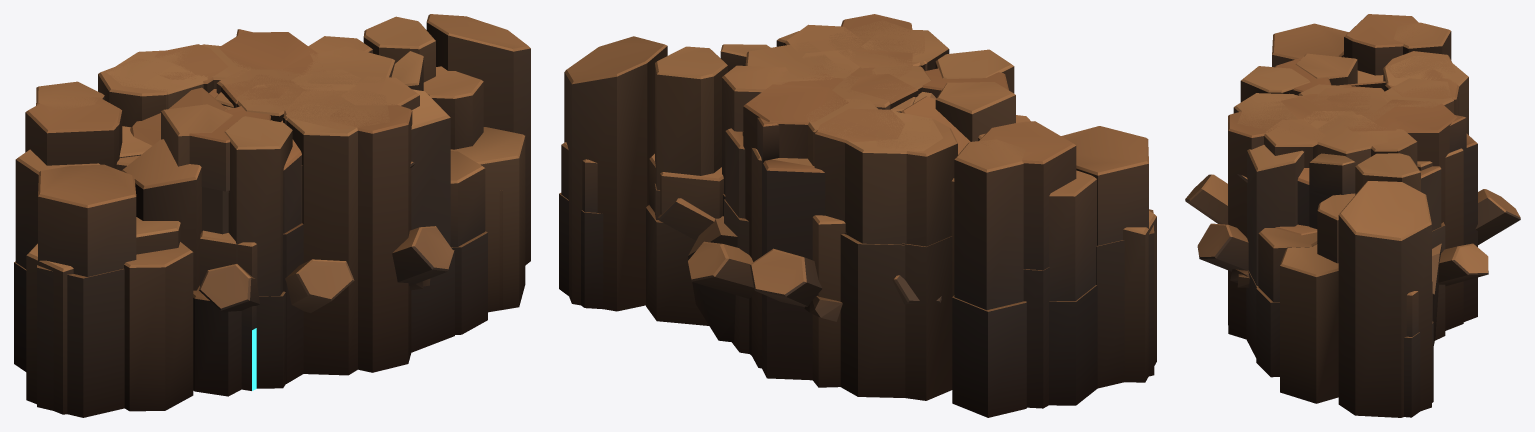
File: khepri-kit.glb
The picture shows the model from 3 angles, left to right: view 1: azimuth 30°, elevation 25°; view 2: azimuth 150°, elevation 25°; view 3: azimuth 270°, elevation 25°; orthographic projection. The views are drawn at different scales.
Visible parts, largest first — view 1: basalt_clump_3, basalt_wall_2, basalt_wall_0, basalt_wall_1, basalt_clump_4, basalt_clump_0, basalt_clump_2, basalt_rosette_0, basalt_clump_1, basalt_column_0, basalt_clump_5; view 2: basalt_wall_0, basalt_wall_1, basalt_wall_2, basalt_clump_2, basalt_clump_4, basalt_clump_3, basalt_clump_0, basalt_rosette_0, boulder_1, basalt_clump_1, basalt_clump_5, basalt_column_0; view 3: basalt_wall_0, basalt_clump_3, basalt_wall_1, basalt_clump_4, basalt_clump_2, basalt_wall_2, basalt_rosette_0, basalt_clump_0, basalt_clump_1, basalt_column_0, basalt_clump_5, boulder_1.
Boxes of the visible parts, bbox=[...] form: basalt_clump_3: bbox=[161, 69, 454, 388]; basalt_wall_2: bbox=[25, 97, 502, 417]; basalt_wall_0: bbox=[14, 14, 530, 414]; basalt_wall_1: bbox=[36, 58, 487, 411]; basalt_clump_4: bbox=[189, 29, 412, 372]; basalt_clump_0: bbox=[130, 32, 314, 383]; basalt_clump_2: bbox=[106, 46, 395, 129]; basalt_rosette_0: bbox=[199, 161, 454, 312]; basalt_clump_1: bbox=[200, 51, 423, 390]; basalt_column_0: bbox=[216, 66, 313, 104]; basalt_clump_5: bbox=[166, 44, 302, 222]; basalt_wall_0: bbox=[564, 36, 1156, 405]; basalt_wall_1: bbox=[724, 119, 1026, 417]; basalt_wall_2: bbox=[559, 115, 1154, 408]; basalt_clump_2: bbox=[742, 20, 942, 397]; basalt_clump_4: bbox=[757, 14, 1008, 380]; basalt_clump_3: bbox=[776, 29, 1015, 387]; basalt_clump_0: bbox=[743, 74, 970, 355]; basalt_rosette_0: bbox=[658, 198, 941, 321]; boulder_1: bbox=[688, 216, 737, 342]; basalt_clump_1: bbox=[720, 24, 863, 71]; basalt_clump_5: bbox=[806, 99, 889, 166]; basalt_column_0: bbox=[829, 66, 902, 109]; basalt_wall_0: bbox=[1280, 56, 1431, 417]; basalt_clump_3: bbox=[1233, 53, 1360, 357]; basalt_wall_1: bbox=[1256, 22, 1455, 377]; basalt_clump_4: bbox=[1228, 57, 1477, 339]; basalt_clump_2: bbox=[1237, 56, 1468, 330]; basalt_wall_2: bbox=[1272, 14, 1433, 417]; basalt_rosette_0: bbox=[1185, 174, 1520, 287]; basalt_clump_0: bbox=[1275, 69, 1459, 235]; basalt_clump_1: bbox=[1264, 119, 1355, 228]; basalt_column_0: bbox=[1310, 88, 1395, 121]; basalt_clump_5: bbox=[1380, 78, 1453, 113]; boulder_1: bbox=[1432, 243, 1441, 345].
Size of the model in its own units: 2.56 by 1.15 by 1.66.
